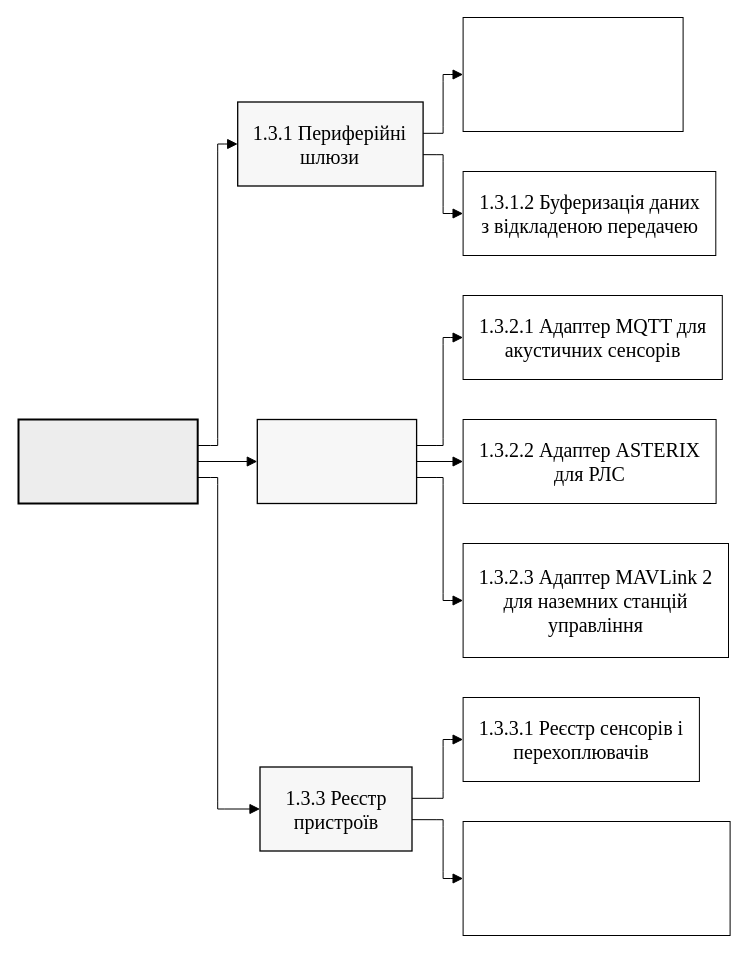
This 748x953 diagram has some shape labels left out. Each missing label, with the centre of its shape:
"1.3 Підсистема збору телеметрії" belongs at (107,461).
"1.3.1.1 Постачання та налаштування 9 периферійних шлюзів" belongs at (572,74).
"1.3.2 Адаптери протоколів" belongs at (336,461).
"1.3.3.2 Моніторинг стану пристроїв і сповіщення про збої" belongs at (596,878).
